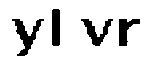l: (48, 7, 69, 52)
r: (115, 14, 143, 53)
v: (78, 13, 112, 50)
y: (9, 13, 45, 60)
